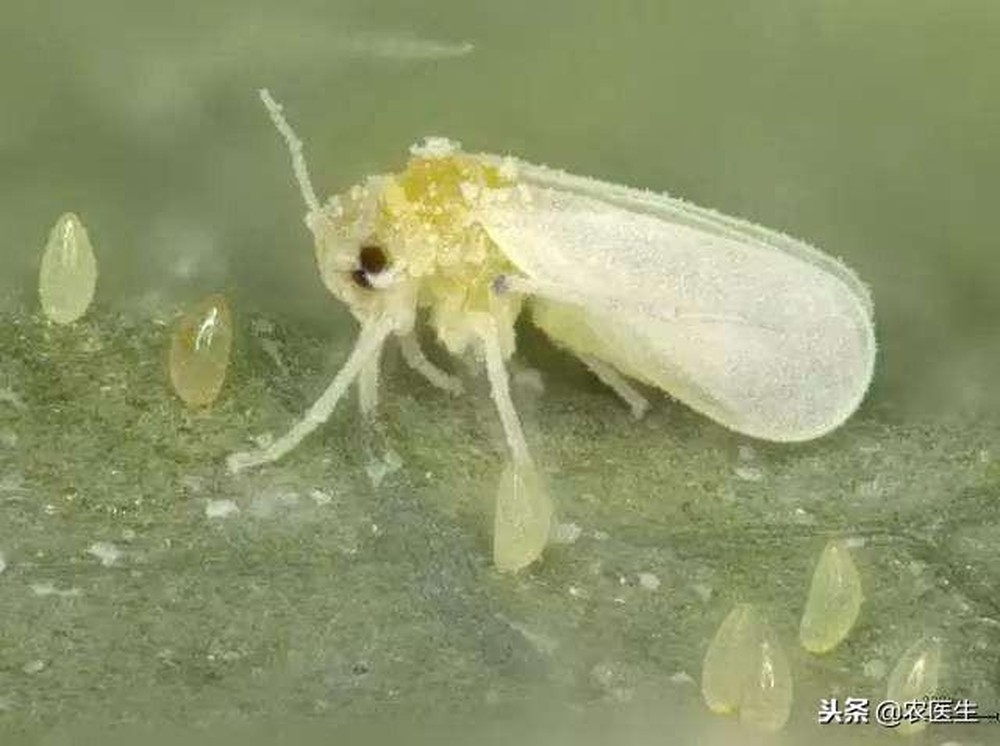Mosca Blanca: (252, 78, 886, 515)
